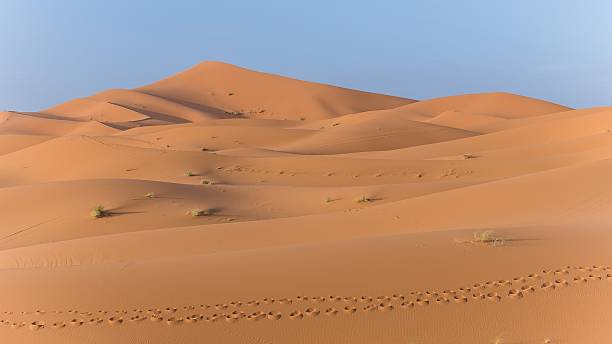animal_footprint: (0, 265, 611, 329)
